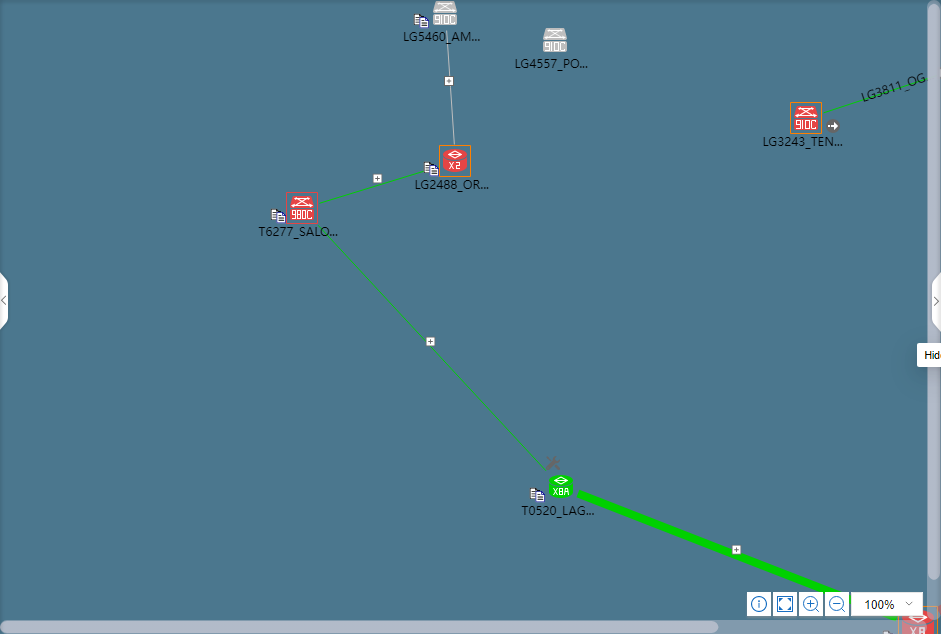ATN_Gray: (433, 0, 456, 25), (543, 28, 566, 52)
ATN_Red: (791, 104, 818, 133), (290, 196, 313, 222)
Link_Gray: (446, 30, 456, 144)
Link_Green: (317, 225, 549, 474), (577, 489, 840, 592), (823, 77, 928, 115), (319, 169, 424, 206)
Router_Green: (548, 476, 572, 498)
Router_Red: (439, 145, 470, 176)
